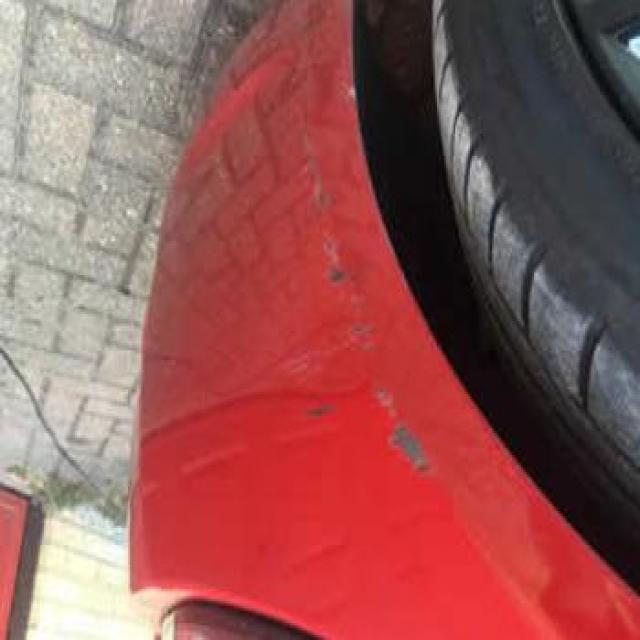scratch: (266, 107, 440, 504)
